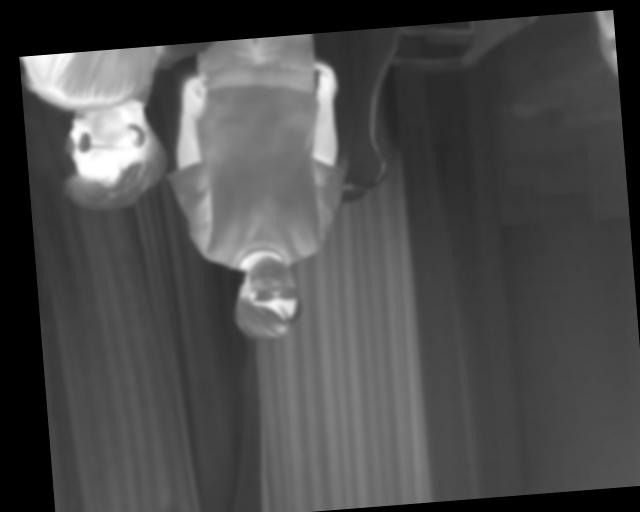face: (231, 253, 304, 343)
